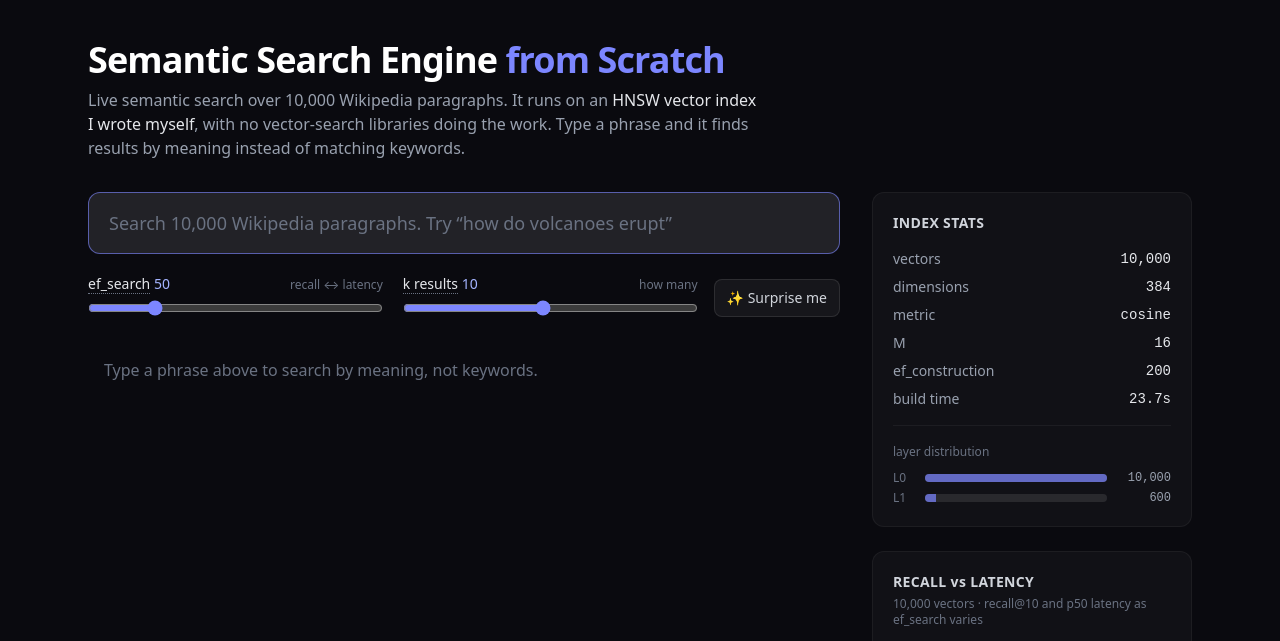
App › searches when the user types and renders results
Type "volcanoes" into the field named "Search query" at (464, 223), box [88,192,840,254]
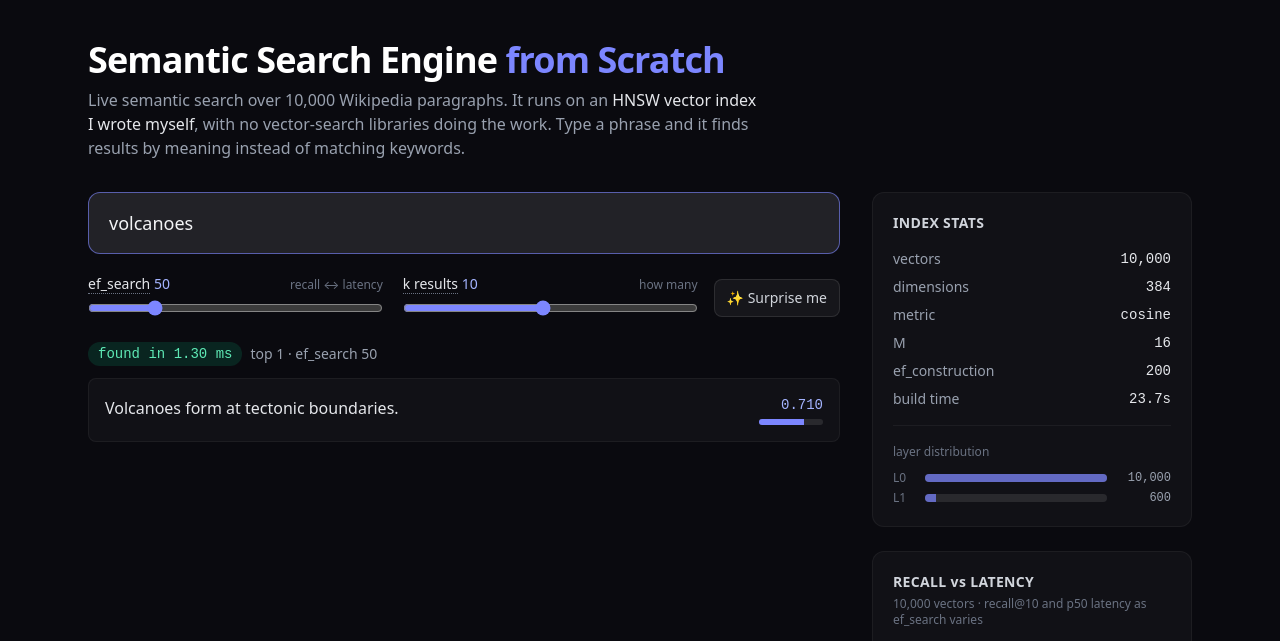
Expected: the text "Volcanoes form at tectonic boundaries." is shown, [105,397,399,419]
Expected: the text "found in 1.30 ms" is shown, [88,342,242,366]
